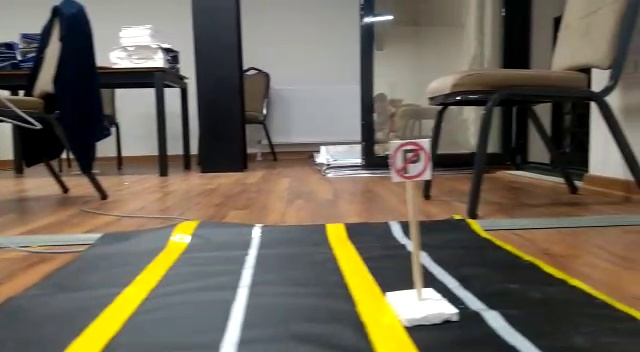park_yapilmaz: (393, 140, 430, 179)
